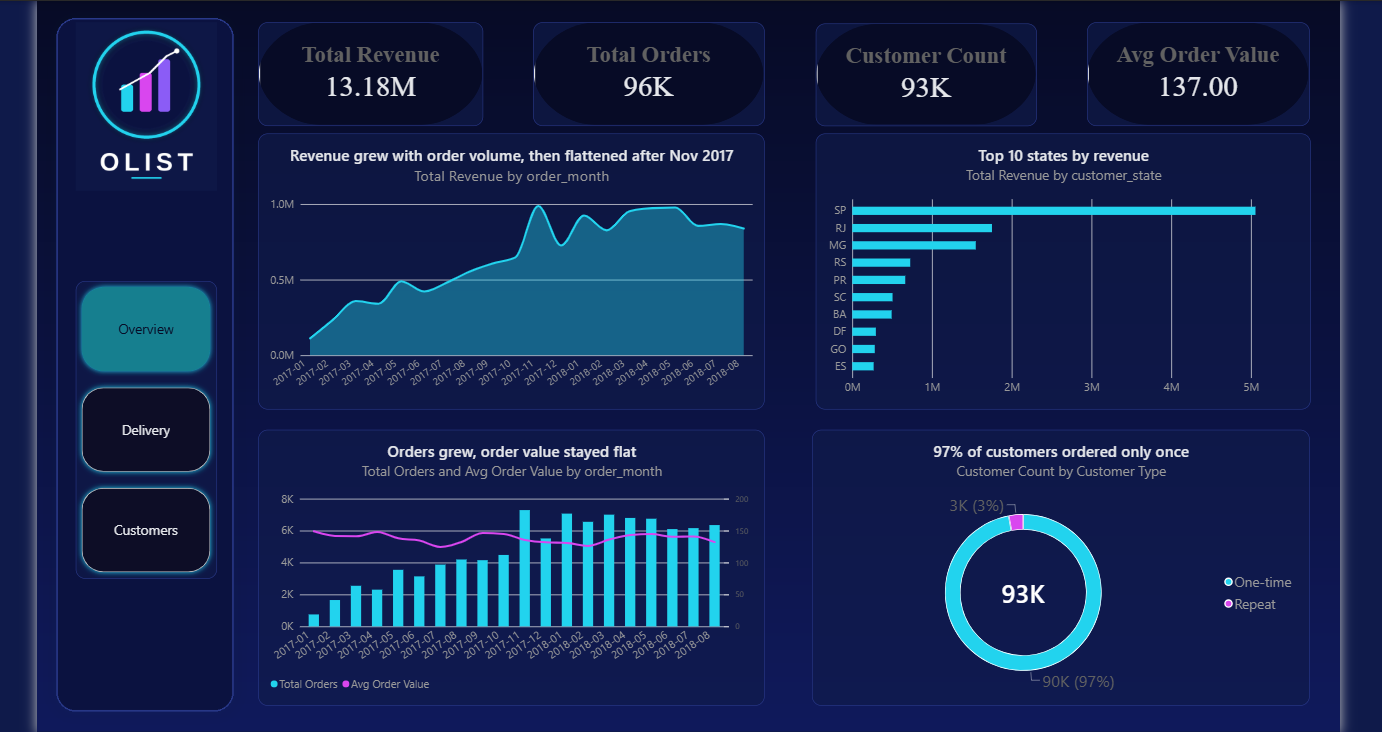

This screenshot's page, from the dashboard's own definition file:
{"tool":"powerbi","page":{"name":"Overview","canvas":[1920,1080],"ordinal":0},"visuals":[{"type":"cardVisual","fields":{"Data":["Orders.Total Revenue"]},"box":[325.8,31.3,331.3,152.8],"z":0},{"type":"cardVisual","fields":{"Data":["Orders.Avg Order Value"]},"box":[1546,31.3,327.6,152.8],"z":1000},{"type":"cardVisual","fields":{"Data":["Orders.Customer Count"]},"box":[1146.6,33.1,325.8,150.9],"z":2000},{"type":"cardVisual","fields":{"Data":["Orders.Total Orders"]},"box":[730.7,31.3,340.5,152.8],"z":3000},{"type":"areaChart","title":"Revenue grew with order volume, then flattened after Nov 2017","fields":{"Category":["Orders.order_month"],"Y":["Orders.Total Revenue"]},"box":[325.8,195.1,745.4,406.8],"z":4000},{"type":"clusteredBarChart","title":"Top 10 states by revenue","fields":{"Category":["Orders.customer_state"],"Y":["Orders.Total Revenue"]},"box":[1146.6,195.1,728.8,406.8],"z":5000},{"type":"lineClusteredColumnComboChart","title":"Orders grew, order value stayed flat","fields":{"Category":["Orders.order_month"],"Y":["Orders.Total Orders"],"Y2":["Orders.Avg Order Value"]},"box":[325.8,631.3,745.4,406.8],"z":6000},{"type":"donutChart","title":"97% of customers ordered only once","fields":{"Category":["customers.Customer Type"],"Y":["Orders.Customer Count"]},"box":[1141.1,631.3,732.5,406.8],"z":7000},{"type":"pageNavigator","box":[57.1,412.3,208,438],"z":8000},{"type":"image","box":[57.1,31.3,208,248],"z":9000}]}

Visuals, with their boxes on the page's 1920x1080 design canvas (x1, y1, x2, y2). These are canvas units, not pixel positions in the 1382x732 screenshot, which may show the page scaled, cropped or inside an application window:
cardVisual - Orders.Total Revenue: bbox=[326, 31, 657, 184]
cardVisual - Orders.Avg Order Value: bbox=[1546, 31, 1874, 184]
cardVisual - Orders.Customer Count: bbox=[1147, 33, 1472, 184]
cardVisual - Orders.Total Orders: bbox=[731, 31, 1071, 184]
"Revenue grew with order volume, then flattened after Nov 2017" areaChart: bbox=[326, 195, 1071, 602]
"Top 10 states by revenue" clusteredBarChart: bbox=[1147, 195, 1875, 602]
"Orders grew, order value stayed flat" lineClusteredColumnComboChart: bbox=[326, 631, 1071, 1038]
"97% of customers ordered only once" donutChart: bbox=[1141, 631, 1874, 1038]
pageNavigator: bbox=[57, 412, 265, 850]
image: bbox=[57, 31, 265, 279]
